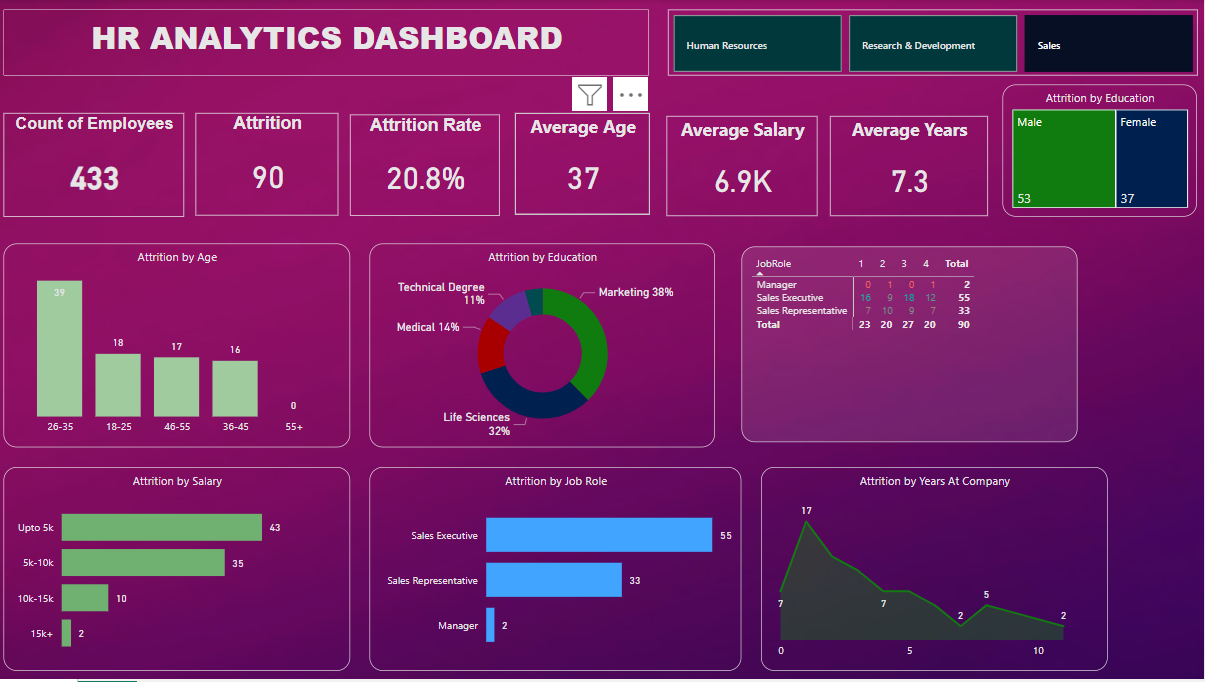

What the dashboard file says about the page in this screenshot:
{"tool":"powerbi","page":{"name":"Page 1","canvas":[1280,720],"ordinal":0},"visuals":[{"type":"card","title":"Count of Employees","fields":{"Values":["CountNonNull(HR_Analytics.EmpID)"]},"box":[8.6,120,191.4,110],"z":0},{"type":"card","title":"Average Age","fields":{"Values":["Avg(HR_Analytics.Age)"]},"box":[550,121.4,142.9,107.1],"z":3},{"type":"card","title":"Attrition","fields":{"Values":["Sum(HR_Analytics.AttritionCount)"]},"box":[211.4,121.4,151.4,108.6],"z":4},{"type":"card","title":"Attrition Rate","fields":{"Values":["HR_Analytics.Attrition Rate"]},"box":[375.7,122.9,158.6,107.1],"z":5},{"type":"card","title":"Average Salary","fields":{"Values":["Avg(HR_Analytics.MonthlyIncome)"]},"box":[710,124.3,160,105.7],"z":6},{"type":"card","title":"Average Years","fields":{"Values":["Avg(HR_Analytics.YearsAtCompany)"]},"box":[884.3,124.3,167.1,105.7],"z":7},{"type":"columnChart","title":"Attrition by Age","fields":{"Category":["HR_Analytics.AgeGroup"],"Y":["Sum(HR_Analytics.AttritionCount)"]},"box":[8.6,258.6,367.1,215.7],"z":8},{"type":"donutChart","title":"Attrition by Education","fields":{"Y":["Sum(HR_Analytics.AttritionCount)"],"Category":["HR_Analytics.EducationField"]},"box":[395.7,258.6,365.7,215.7],"z":9},{"type":"pivotTable","fields":{"Rows":["HR_Analytics.JobRole"],"Columns":["HR_Analytics.JobSatisfaction"],"Values":["Sum(HR_Analytics.AttritionCount)"]},"box":[790,262.9,355.7,207.1],"z":10},{"type":"barChart","title":"Attrition by Salary","fields":{"Category":["HR_Analytics.SalarySlab"],"Y":["Sum(HR_Analytics.AttritionCount)"]},"box":[8.1,496.7,367.1,215.7],"z":11},{"type":"barChart","title":"Attrition by Job Role","fields":{"Y":["Sum(HR_Analytics.AttritionCount)"],"Category":["HR_Analytics.JobRole"]},"box":[395.7,495.7,394.3,215.7],"z":12},{"type":"areaChart","title":"Attrition by Years At Company","fields":{"Category":["HR_Analytics.YearsAtCompany"],"Y":["Sum(HR_Analytics.AttritionCount)"]},"box":[810,495.7,367.1,215.7],"z":13},{"type":"treemap","title":"Attrition by Education","fields":{"Values":["Sum(HR_Analytics.AttritionCount)"],"Group":["HR_Analytics.Gender"]},"box":[1067.1,90,205.7,140],"z":14},{"type":"advancedSlicerVisual","fields":{"Values":["HR_Analytics.Department"]},"box":[711.4,11.4,561.4,70],"z":15},{"type":"textbox","box":[8.6,11.4,684.3,70],"z":16}]}

Visuals, with their boxes in screenshot pixels (x1, y1, x2, y2), scaled from the page's 1280x720 canvas onto the 1205x682 screenshot:
"Count of Employees" card: 8, 114, 188, 218
"Average Age" card: 518, 115, 652, 216
"Attrition" card: 199, 115, 342, 218
"Attrition Rate" card: 354, 116, 503, 218
"Average Salary" card: 668, 118, 819, 218
"Average Years" card: 832, 118, 990, 218
"Attrition by Age" columnChart: 8, 245, 354, 449
"Attrition by Education" donutChart: 373, 245, 717, 449
pivotTable - HR_Analytics.JobRole x HR_Analytics.JobSatisfaction: 744, 249, 1079, 445
"Attrition by Salary" barChart: 8, 470, 353, 675
"Attrition by Job Role" barChart: 373, 470, 744, 674
"Attrition by Years At Company" areaChart: 763, 470, 1108, 674
"Attrition by Education" treemap: 1005, 85, 1198, 218
advancedSlicerVisual - HR_Analytics.Department: 670, 11, 1198, 77
textbox: 8, 11, 652, 77
